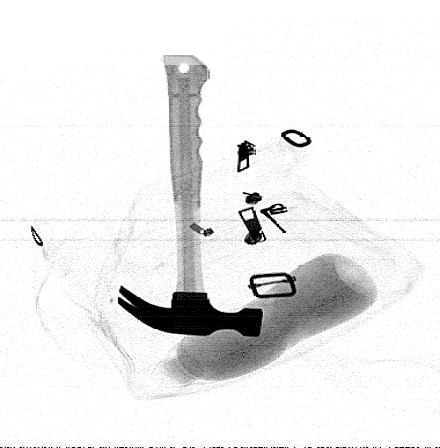Hammer: (117, 54, 264, 338)
